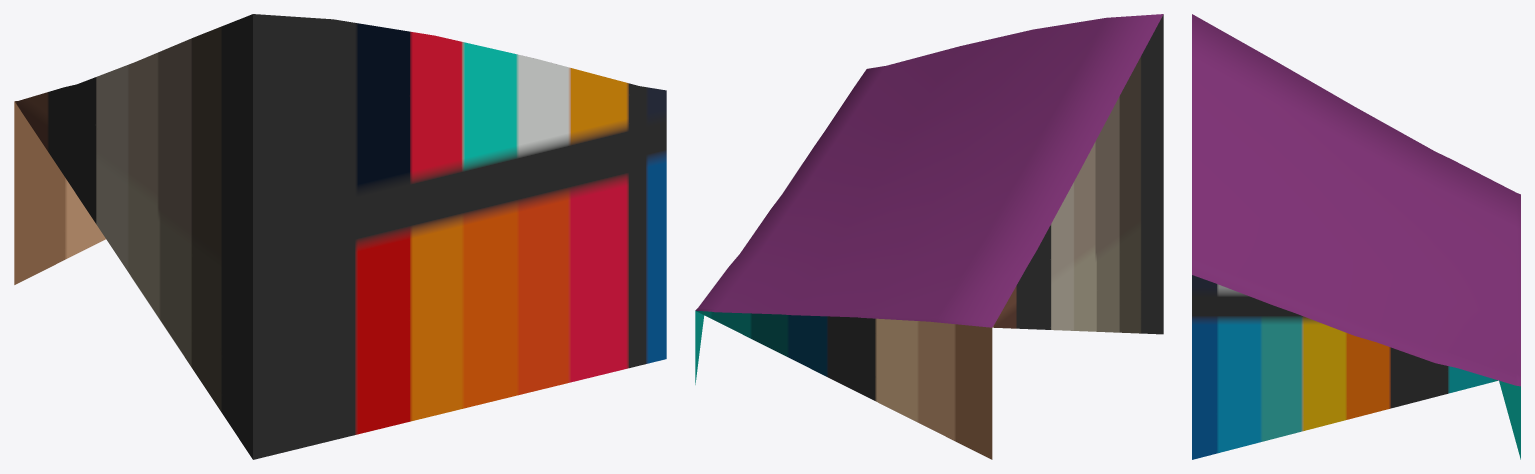
File: tile_16_0_6.gltf
3 renders of one model, left to right at view 1: azimuth 30°, elevation 25°; view 2: azimuth 150°, elevation 25°; view 3: azimuth 270°, elevation 25°, orthographic. The views are drawn at different scales.
Parts seen in each view (by area): view 1: Plane; view 2: Plane; view 3: Plane.
Boxes of the visible parts, x1,y1,x2,y2 form: Plane: [14, 14, 666, 459]; Plane: [695, 14, 1163, 459]; Plane: [1192, 14, 1520, 459].
Size of the model in its own units: 8 by 8.25 by 8.
Materials: 1 (1 with a texture image).
